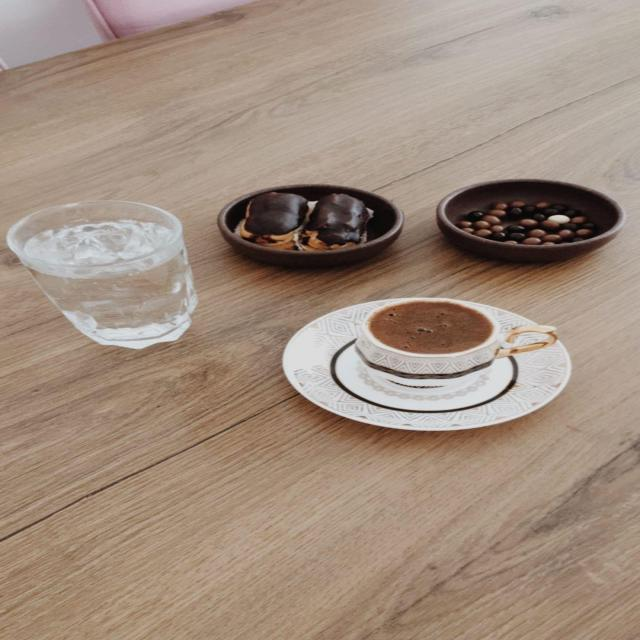cup-handle: (352, 296, 558, 398)
glass-normal: (5, 200, 200, 350)
